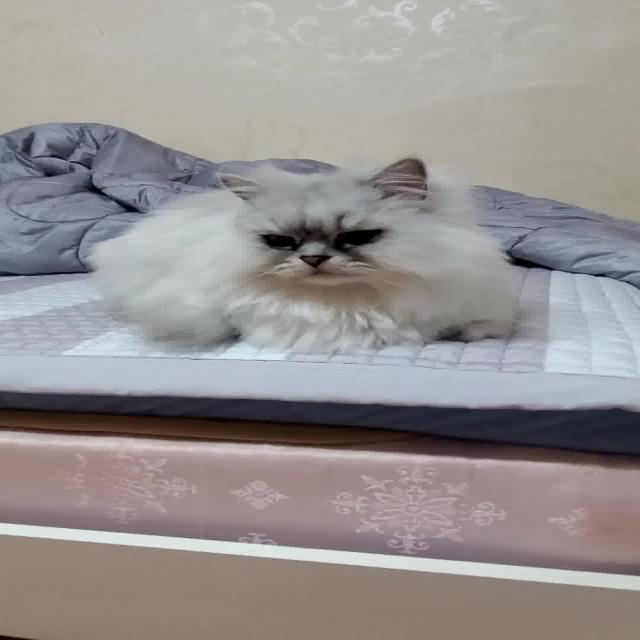cat: (86, 151, 542, 357)
